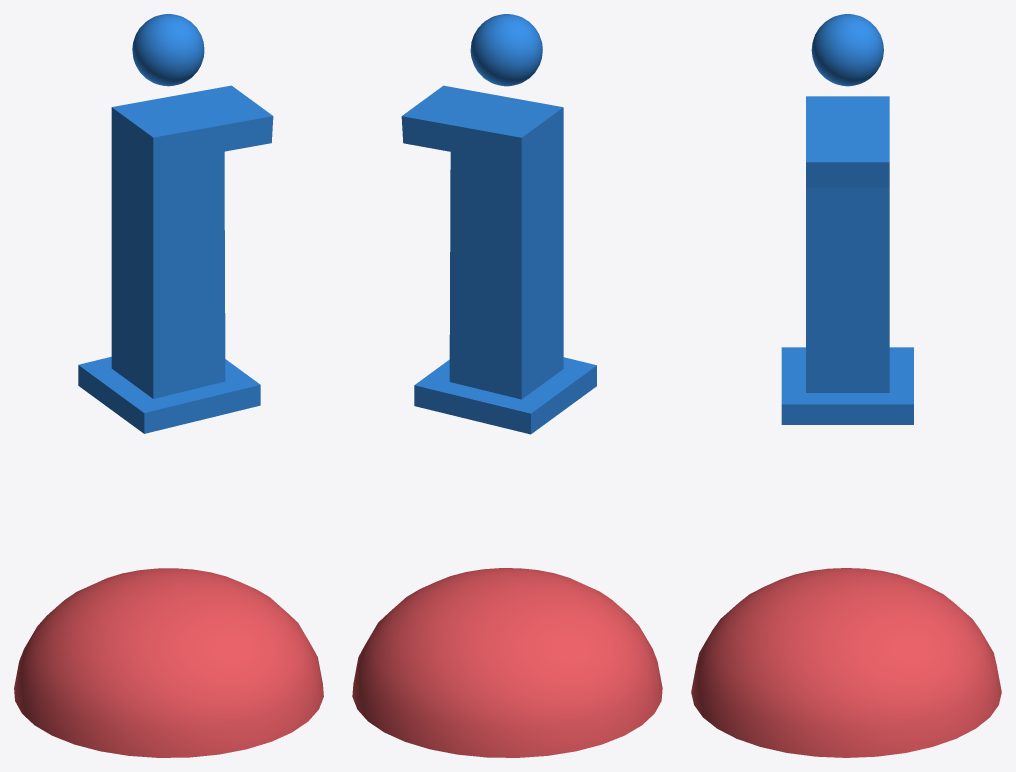
The model's file is InfoMarkerAR.fbx.
3 renders of one model, left to right at view 1: azimuth 30°, elevation 25°; view 2: azimuth 150°, elevation 25°; view 3: azimuth 270°, elevation 25°, orthographic.
Parts seen in each view (by area): view 1: Sphere.002, Cube.001, Sphere.003; view 2: Sphere.002, Cube.001, Sphere.003; view 3: Sphere.002, Cube.001, Sphere.003.
Boxes of the visible parts, x1,y1,x2,y2 form: Sphere.002: (14,568,323,757); Cube.001: (78,85,273,433); Sphere.003: (132,14,204,86); Sphere.002: (352,568,662,757); Cube.001: (401,85,596,434); Sphere.003: (470,14,542,86); Sphere.002: (691,568,1001,757); Cube.001: (781,96,913,424); Sphere.003: (811,14,883,86).
Bounding box in the file's own units: 160 × 383 × 160.
